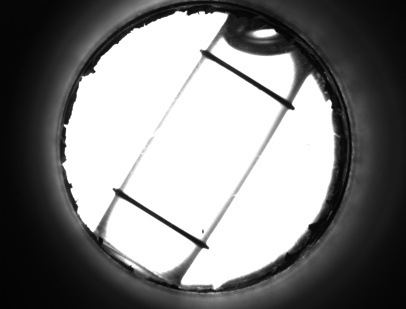line: (120, 201, 197, 235), (213, 64, 282, 95)
